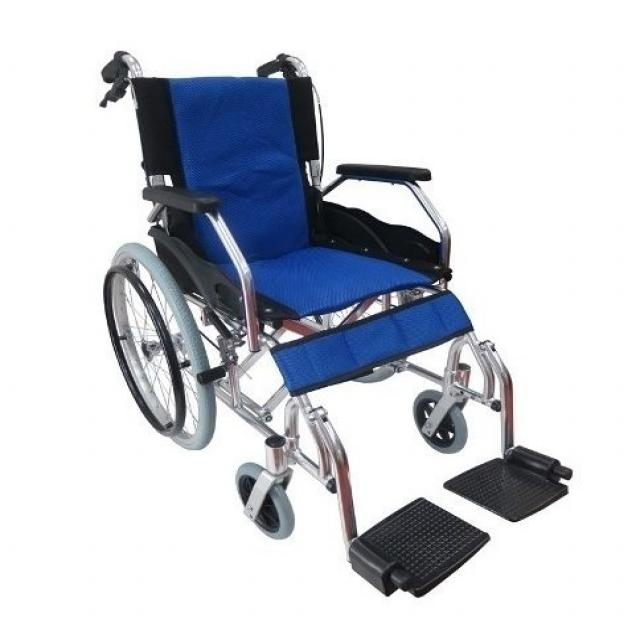wheelchair: (78, 35, 587, 606)
